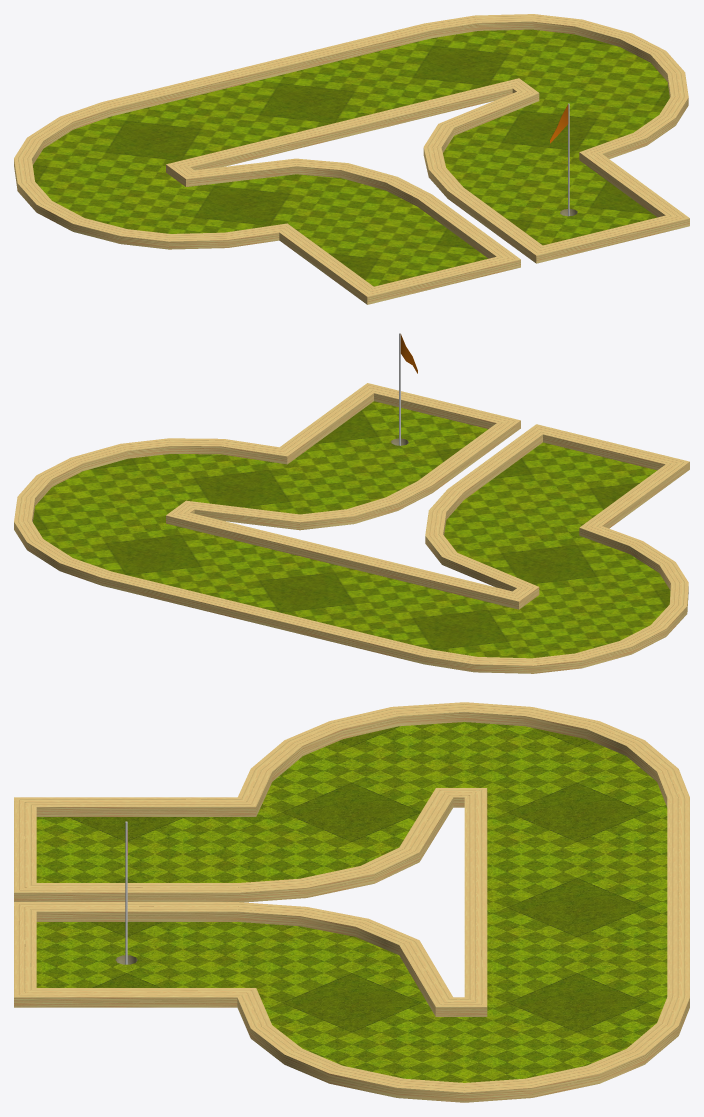
Rendered from course1_hole5.fbx.
The picture shows the model from 3 angles, top to bottom: view 1: azimuth 30°, elevation 25°; view 2: azimuth 150°, elevation 25°; view 3: azimuth 270°, elevation 25°; orthographic projection. The views are drawn at different scales.
Parts seen in each view (by area): view 1: course1_hole5_ground, course1_hole5_walls, course1_hole5_flag; view 2: course1_hole5_ground, course1_hole5_walls; view 3: course1_hole5_ground, course1_hole5_walls.
Boxes of the visible parts, box(x1,y1,x2,y2) form: course1_hole5_ground: box(33, 29, 669, 286); course1_hole5_walls: box(14, 14, 689, 304); course1_hole5_flag: box(550, 103, 569, 216); course1_hole5_ground: box(33, 401, 670, 658); course1_hole5_walls: box(14, 383, 689, 673); course1_hole5_ground: box(36, 722, 667, 1082); course1_hole5_walls: box(14, 702, 689, 1102).
Bounding box in the file's own units: 12.3 × 2.25 × 9.
